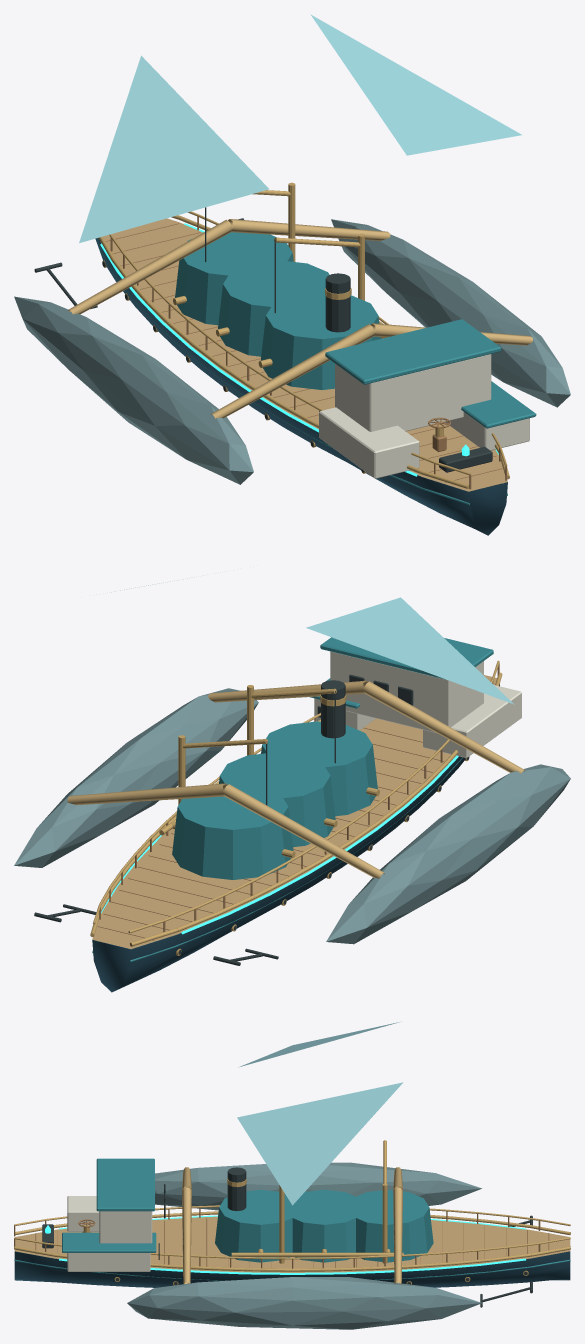
The model's file is ship_tanker.glb.
3 renders of one model, top to bottom at view 1: azimuth 30°, elevation 25°; view 2: azimuth 150°, elevation 25°; view 3: azimuth 270°, elevation 25°, orthographic. The views are drawn at different scales.
Visible parts, largest first — view 1: ship_tanker; view 2: ship_tanker; view 3: ship_tanker.
Boxes of the visible parts, left/top/right/bottom form: ship_tanker: left=14, top=14, right=570, bottom=535; ship_tanker: left=14, top=577, right=570, bottom=992; ship_tanker: left=14, top=1022, right=570, bottom=1329.
Size of the model in its own units: 14.34 by 9.54 by 21.05.
